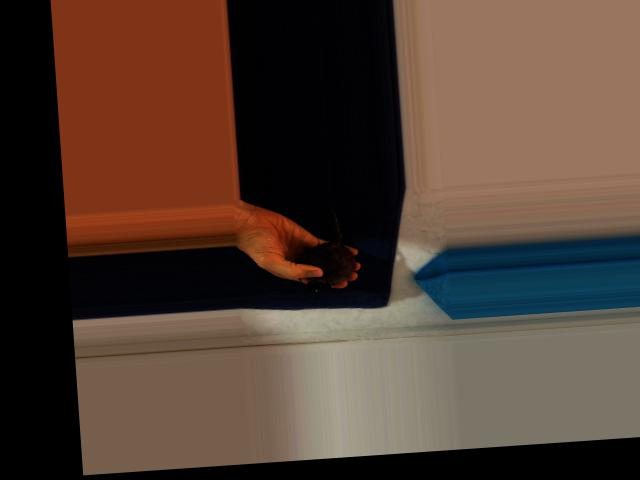beet: (294, 207, 357, 293)
